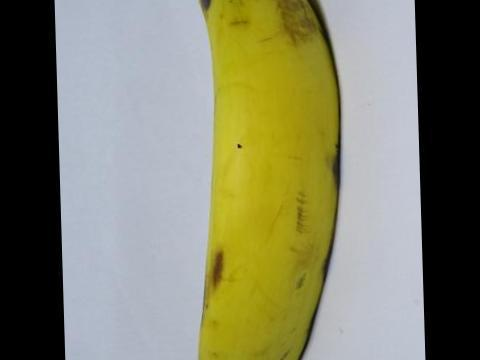freshripe: (180, 0, 359, 359)
